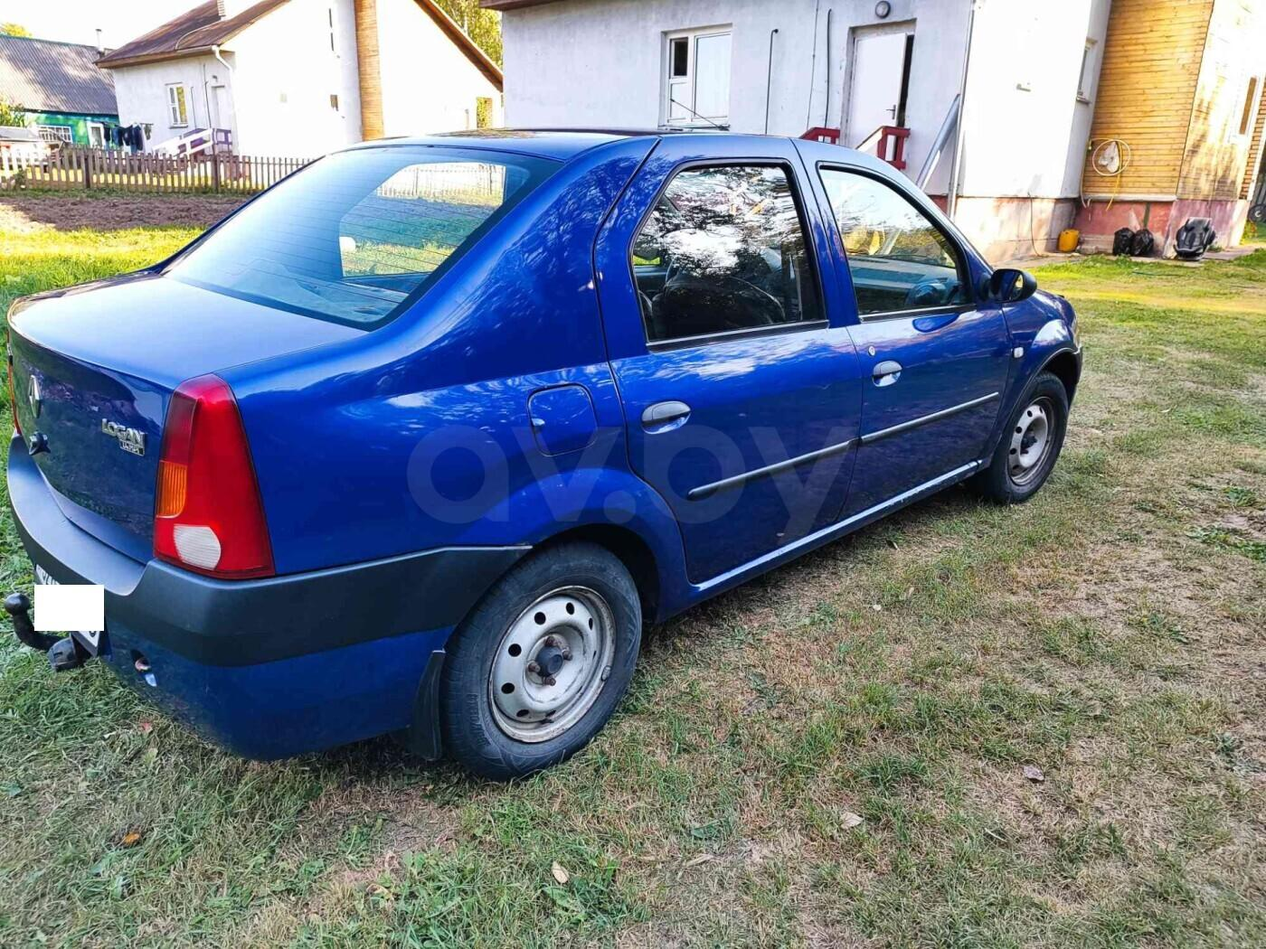Logan_2004-2009: (0, 120, 1088, 777)
